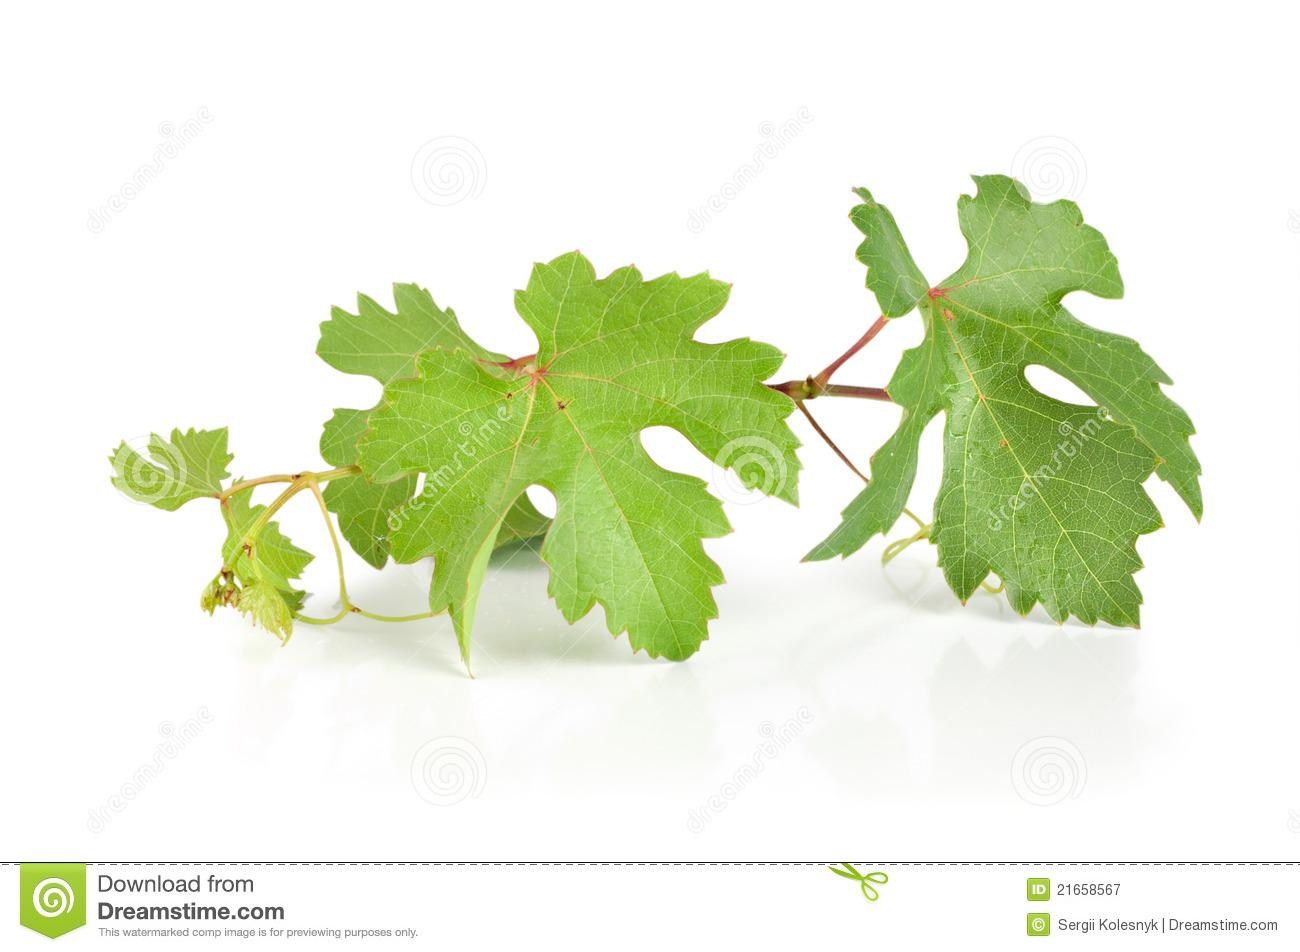grape leaf black rot: (319, 223, 808, 700), (806, 171, 1220, 643)
